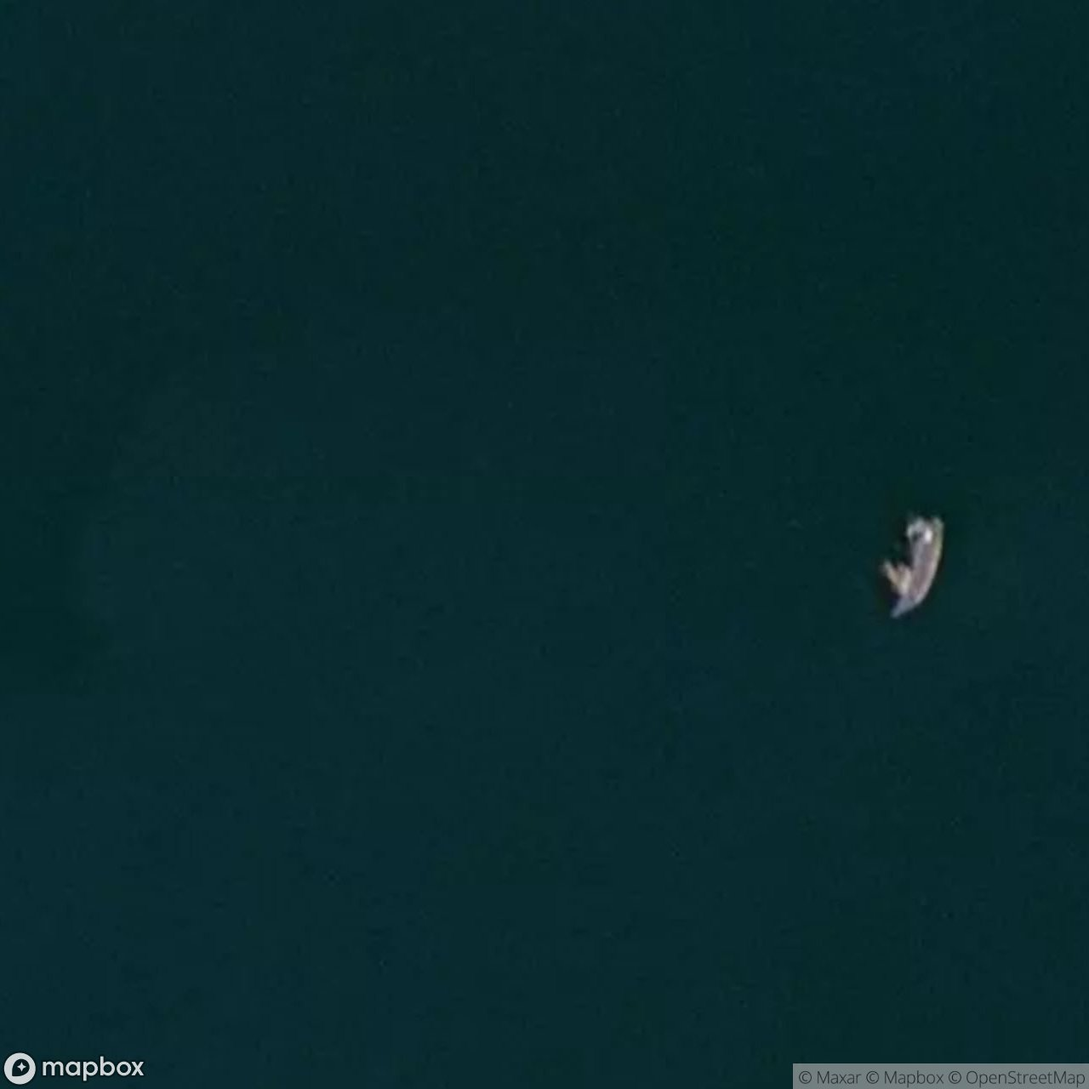Wreck: (838, 517, 971, 641)
